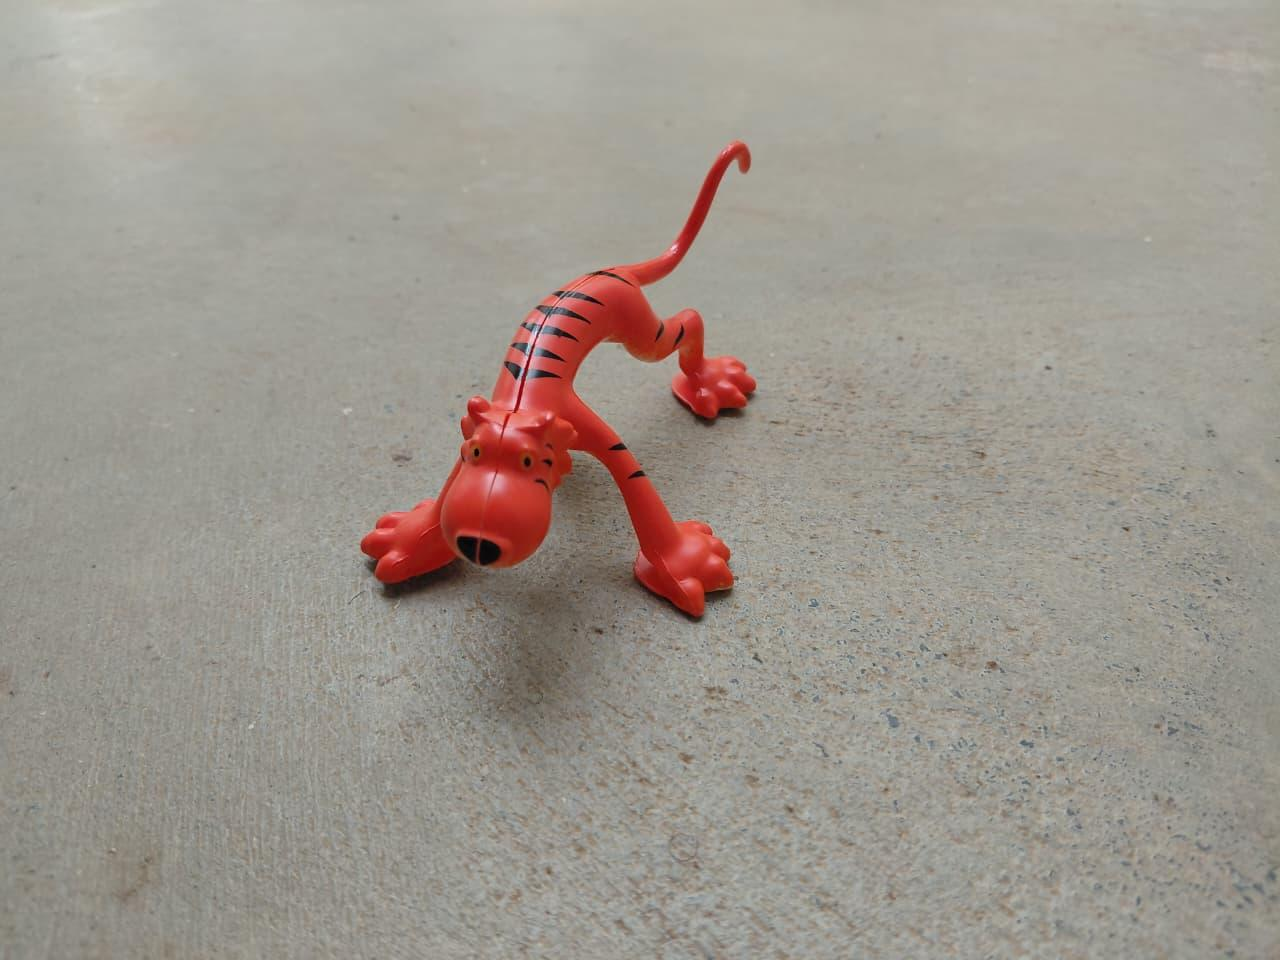tiger: (362, 132, 770, 624)
